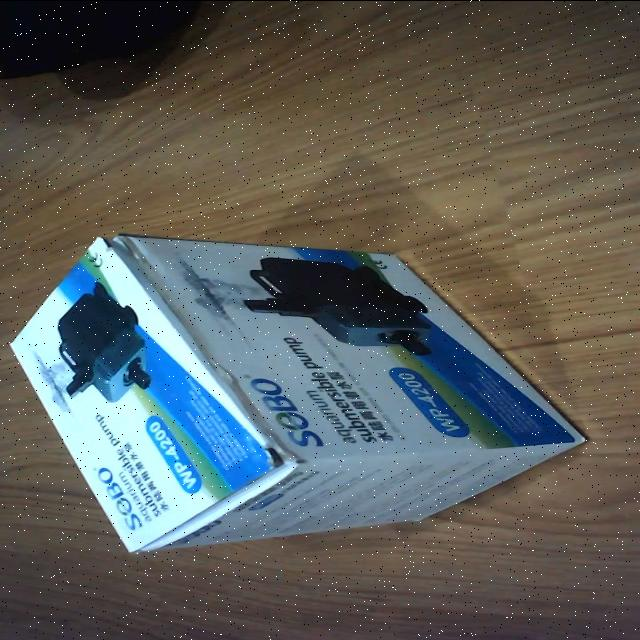SOBO_WP_4200: (8, 229, 585, 555)
